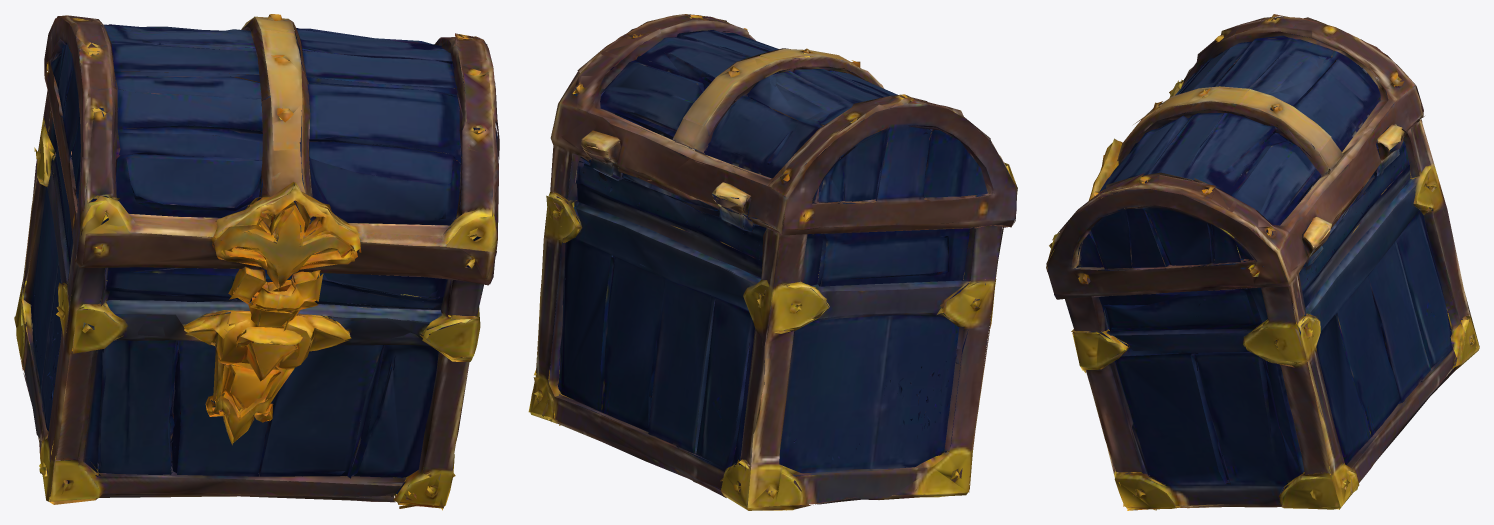
Rendered from coffre2.glb.
3 views of the same model, side by side, from view 1: azimuth 30°, elevation 25°; view 2: azimuth 150°, elevation 25°; view 3: azimuth 270°, elevation 25° (orthographic). The views are drawn at different scales.
Parts seen in each view (by area): view 1: objet; view 2: objet; view 3: objet.
Part boxes in pixels (box(x1,y1,x2,y2)): objet: box(14, 14, 499, 510); objet: box(528, 14, 1017, 510); objet: box(1046, 14, 1479, 510).
Size of the model in its own units: 0.8018 by 0.8 by 0.8075.
Materials: 1 (1 with a texture image).
